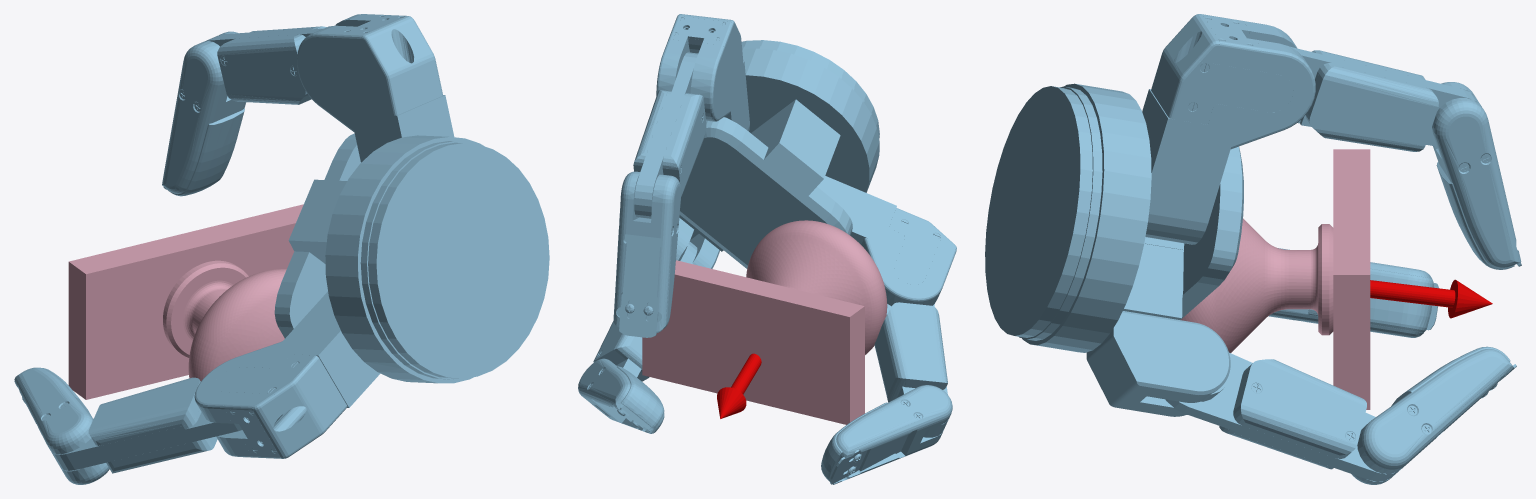
The picture shows the model from 3 angles, left to right: view 1: azimuth 30°, elevation 25°; view 2: azimuth 150°, elevation 25°; view 3: azimuth 270°, elevation 25°; orthographic projection. The views are drawn at different scales.
Parts seen in each view (by area): view 1: world, door_knob.stl; view 2: world, door_knob.stl; view 3: world, door_knob.stl.
Boxes of the visible parts, <box> form: world: <box>14,14,549,484</box>; door_knob.stl: <box>68,204,303,399</box>; world: <box>578,14,956,484</box>; door_knob.stl: <box>642,220,887,424</box>; world: <box>985,14,1521,484</box>; door_knob.stl: <box>1180,149,1370,409</box>.
Size of the model in its own units: 0.1695 by 0.164 by 0.1804.
